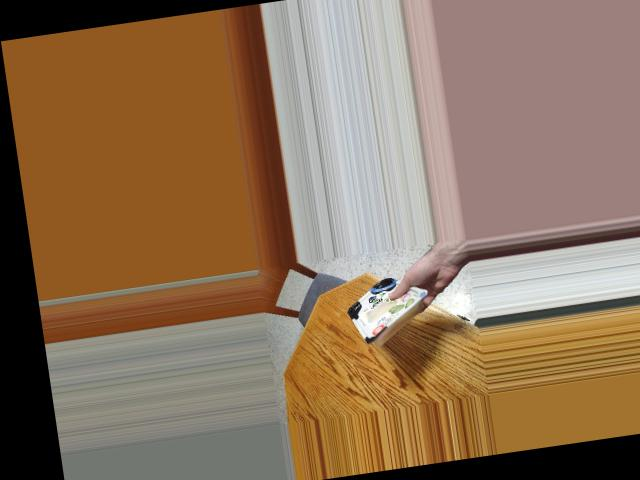cheese: (338, 271, 430, 363)
